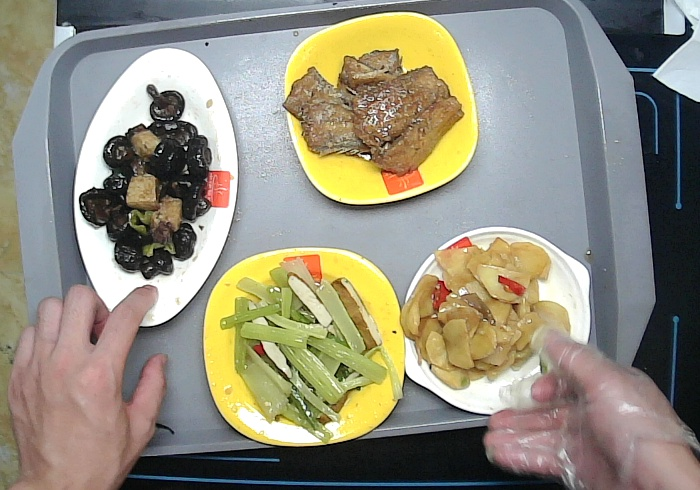SHKJ-Bao_Yu_Pan: (400, 222, 595, 418)
SHKJ-Huang_Se_Cai_Die: (281, 8, 483, 209)
SHKJ-Huang_Se_Si_Fang_Cai_Die: (198, 244, 409, 451)
SHKJ-Yu_Pan: (69, 45, 243, 333)
